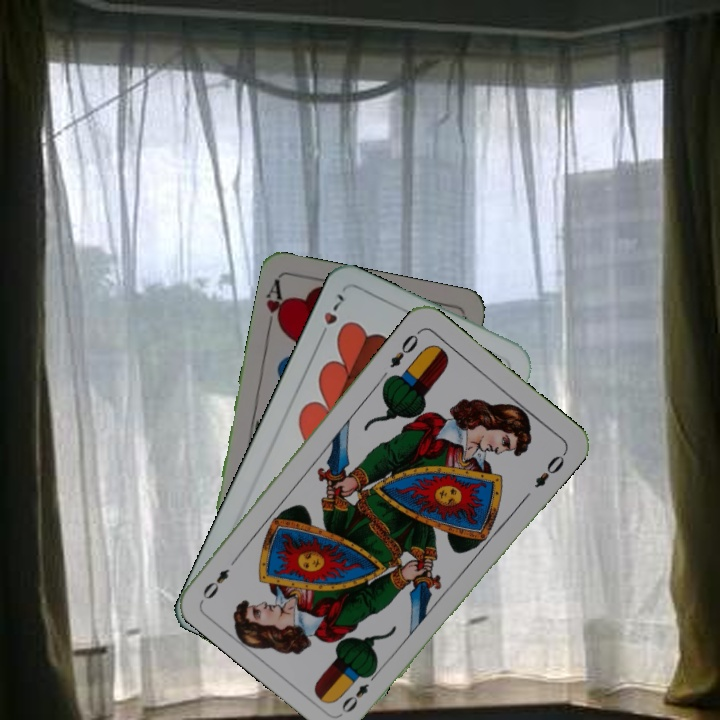EO: (337, 666, 381, 716), (385, 326, 423, 371)
H7: (314, 289, 348, 343)
HA: (262, 276, 290, 335)
